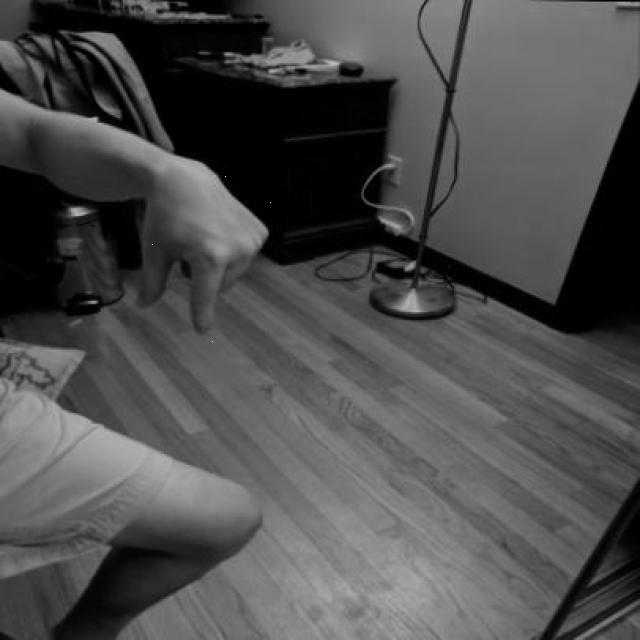Q: (129, 158, 276, 342)
